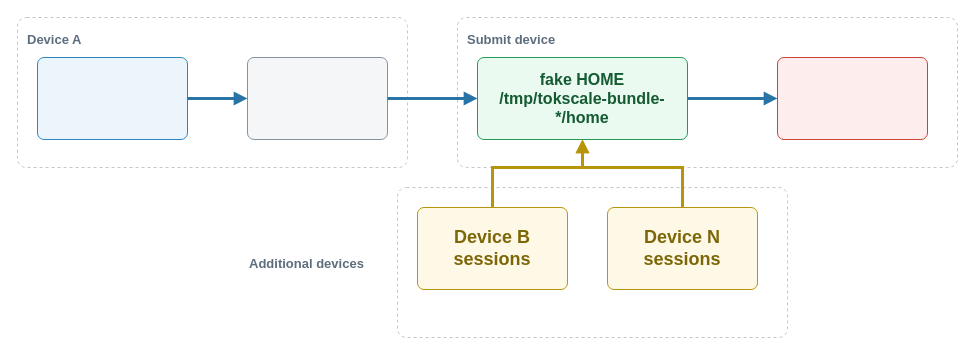
Some shapes in this 975 by 355 pixel diagram are drawn without their labels. Each missing label, with the centre of its shape:
bundle.zip: (317,98)
Device A sessions: (112,98)
tokscale submit: (852,98)
